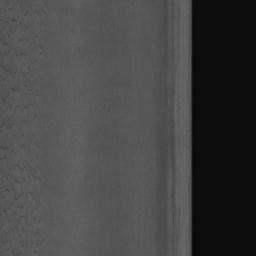Silk spot: (0, 0, 49, 256)
